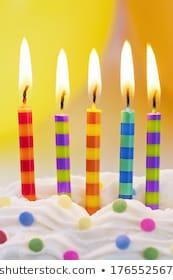fire: (144, 41, 160, 111), (118, 38, 134, 106), (18, 33, 32, 103), (54, 46, 70, 102), (88, 46, 102, 102)
